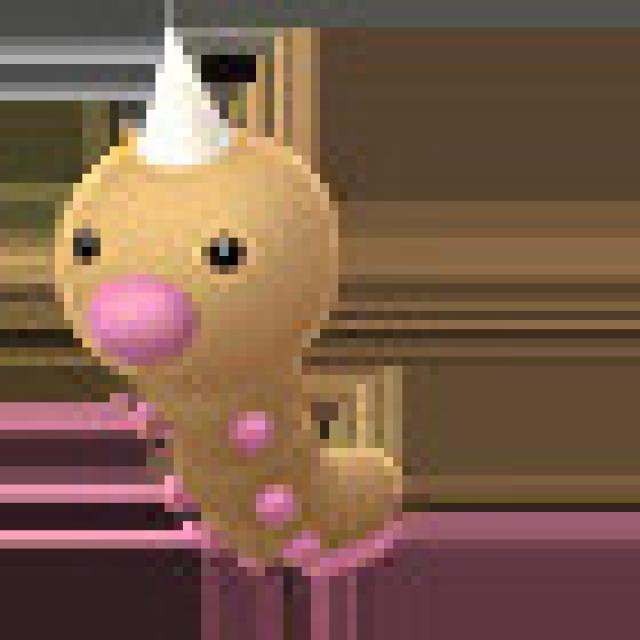Weedle: (49, 31, 406, 573)
